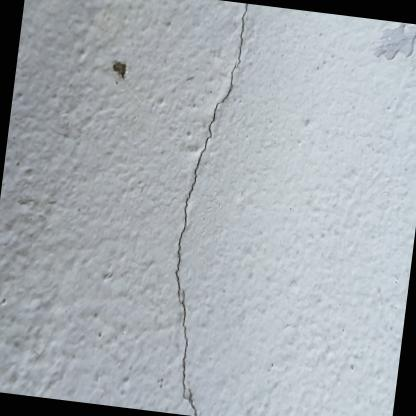crack: (174, 3, 248, 416)
